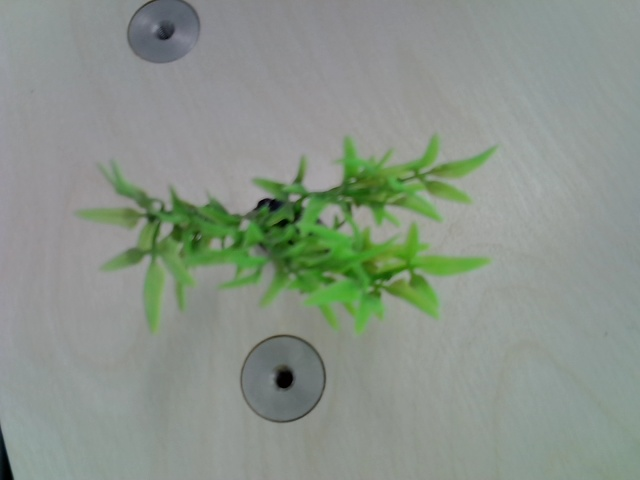튤립새싹: (69, 134, 496, 337)
